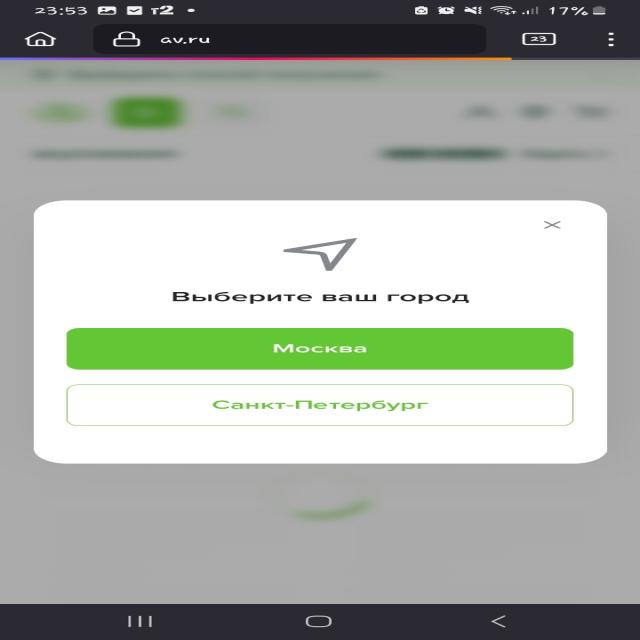button: (67, 327, 571, 369), (69, 384, 573, 425), (536, 217, 571, 232)
site: (33, 199, 611, 464)
